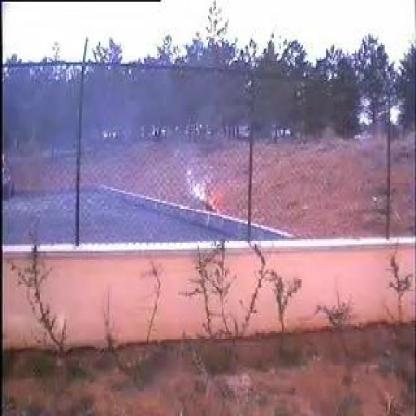-: (83, 74, 208, 240)
